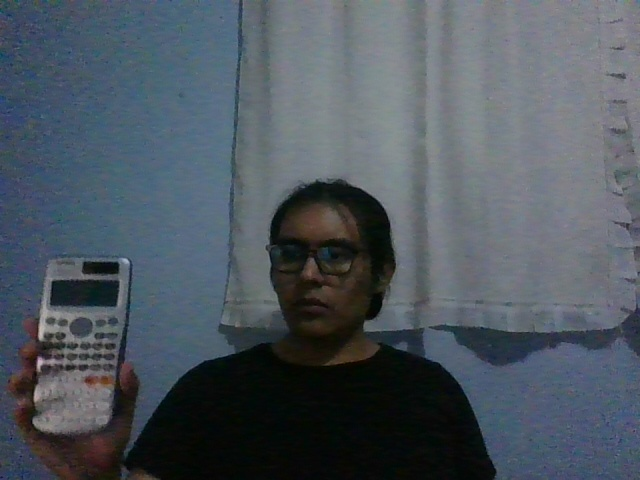calculadora: (30, 256, 132, 437)
